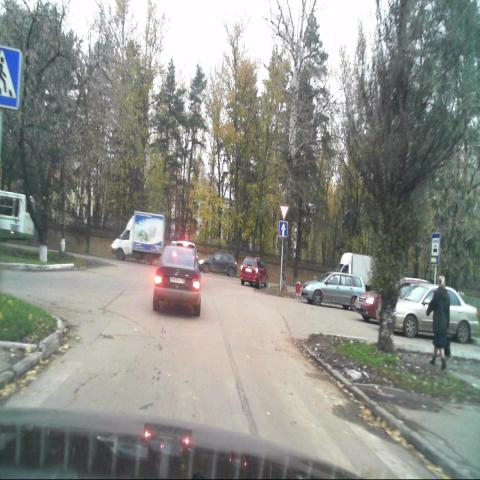5_18: (430, 233, 439, 266)
